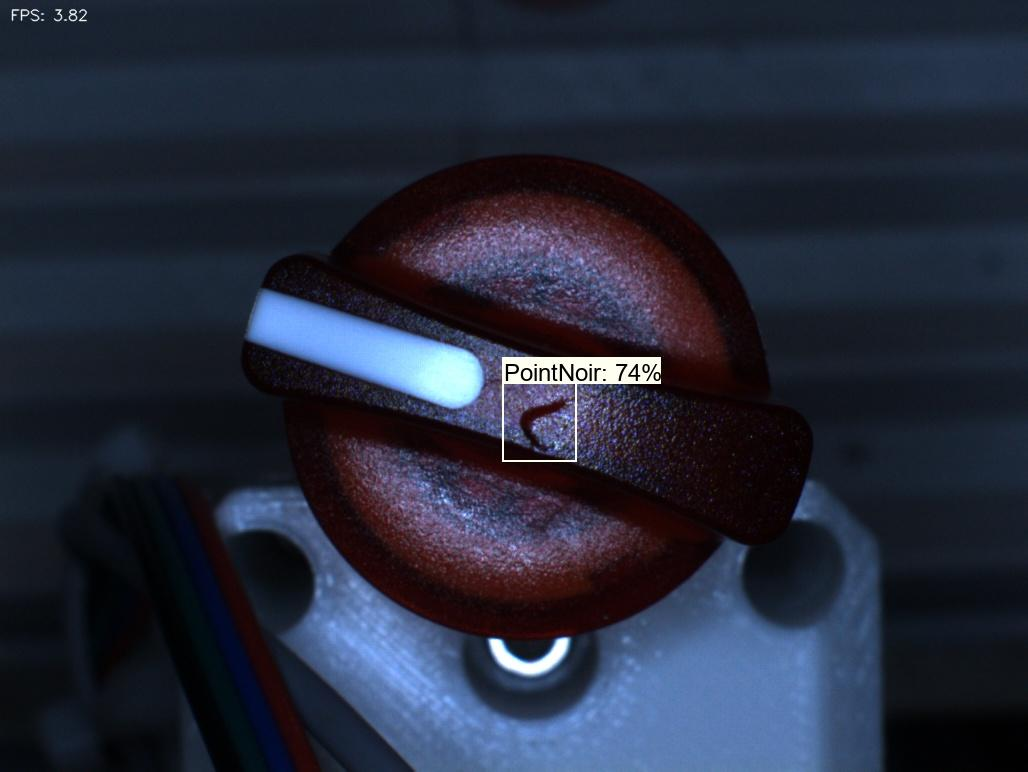Choc: (504, 385, 601, 477)
